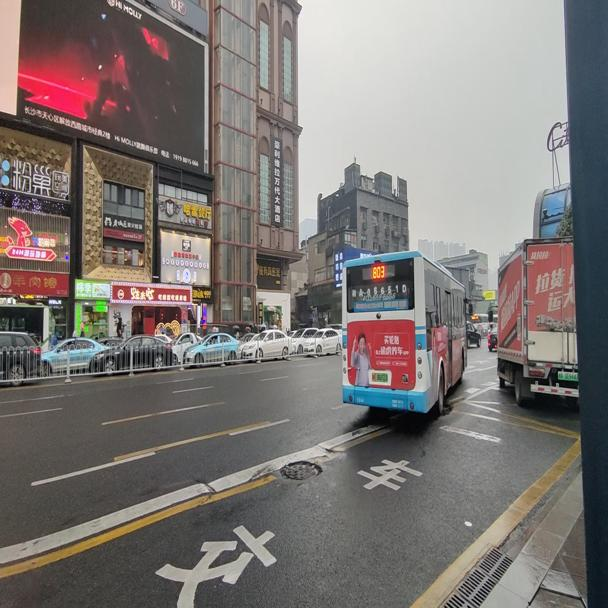bus: (341, 247, 473, 419)
screen: (372, 266, 384, 278)
